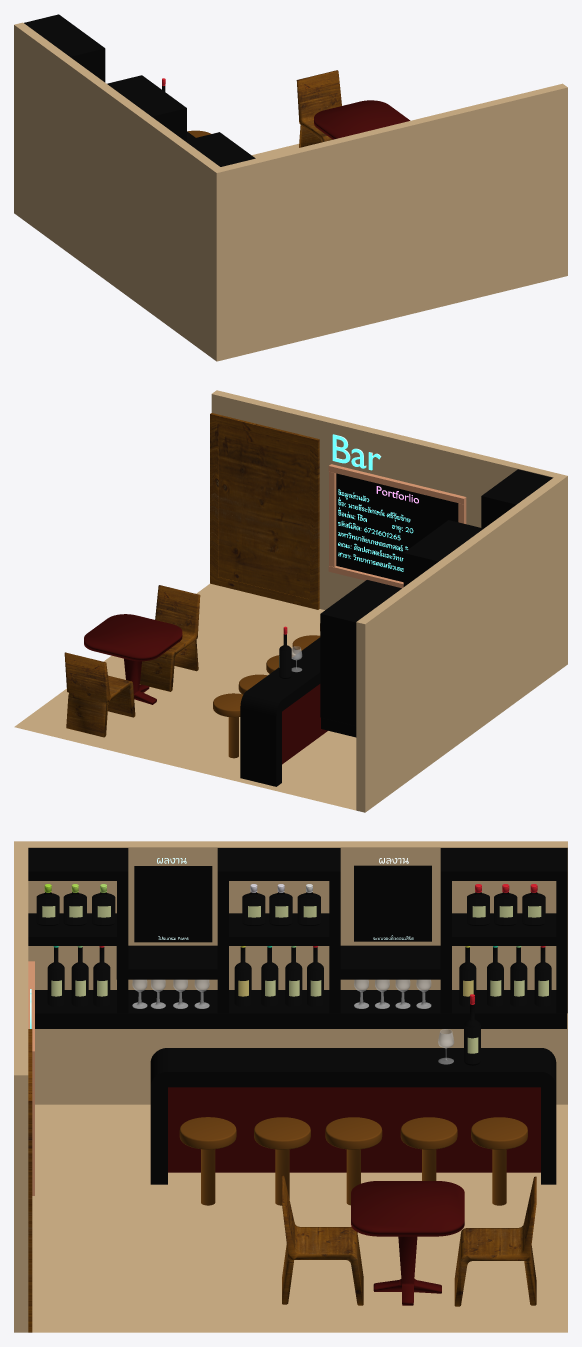
The model's file is BAR.glb.
3 views of the same model, one above another, from view 1: azimuth 30°, elevation 25°; view 2: azimuth 150°, elevation 25°; view 3: azimuth 270°, elevation 25° (orthographic). The views are drawn at different scales.
Visible parts, largest first — view 1: Plane, Cube.002, Plane.003, Cube.004; view 2: Plane, door, Cube.002, Plane.012, Cube, border, Cube.004, Plane.003, Cube.001, Cube.006, Plane.001, Text.003 (+2 smaller); view 3: Plane, Cube.002, Plane.001, Cube, Cube.003, Plane.003, Plane.025, Plane.027, Cube.004, Cube.001, Circle, Circle.004 (+26 smaller).
Part boxes in pixels (x1=…): Plane: x1=14, y1=22, x2=567, y2=361; Cube.002: x1=24, y1=14, x2=255, y2=166; Plane.003: x1=314, y1=100, x2=410, y2=139; Cube.004: x1=296, y1=70, x2=341, y2=147; Plane: x1=14, y1=390, x2=567, y2=812; door: x1=218, y1=424, x2=309, y2=599; Cube.002: x1=320, y1=469, x2=552, y2=725; Plane.012: x1=336, y1=473, x2=458, y2=582; Cube: x1=240, y1=637, x2=320, y2=786; border: x1=210, y1=413, x2=319, y2=609; Cube.004: x1=64, y1=652, x2=135, y2=737; Plane.003: x1=84, y1=614, x2=182, y2=704; Cube.001: x1=140, y1=585, x2=200, y2=691; Cube.006: x1=328, y1=464, x2=466, y2=588; Plane.001: x1=282, y1=684, x2=327, y2=764; Text.003: x1=338, y1=489, x2=413, y2=571; Plane: x1=14, y1=841, x2=567, y2=1332; Cube.002: x1=28, y1=848, x2=567, y2=1013; Plane.001: x1=168, y1=1087, x2=540, y2=1172; Cube: x1=150, y1=1048, x2=556, y2=1184; Cube.003: x1=35, y1=990, x2=566, y2=1028; Plane.003: x1=351, y1=1181, x2=464, y2=1305; Plane.025: x1=134, y1=866, x2=212, y2=942; Plane.027: x1=354, y1=865, x2=431, y2=941; Cube.004: x1=454, y1=1176, x2=536, y2=1306; Cube.001: x1=281, y1=1175, x2=363, y2=1305; Circle: x1=179, y1=1117, x2=236, y2=1205; Circle.004: x1=471, y1=1117, x2=527, y2=1205.
Size of the model in its own units: 19.5 by 10.01 by 19.5.
98 materials, 3 textured.
